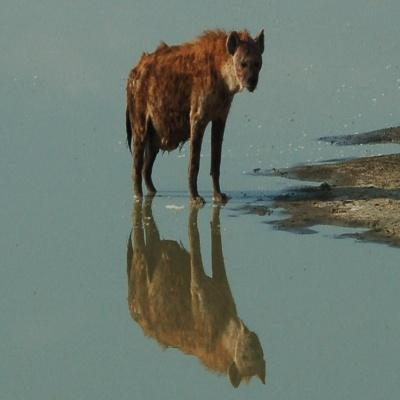hyenas: (90, 21, 296, 233)
